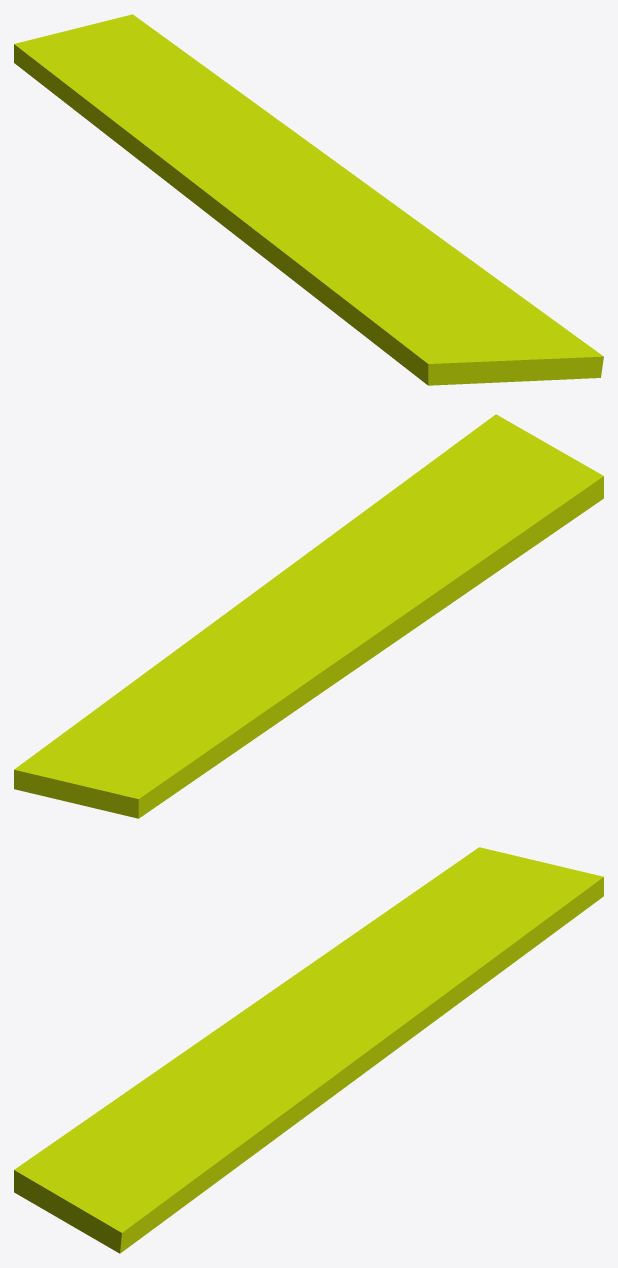
Rendered from Inlane_B.fbx.
3 renders of one model, top to bottom at view 1: azimuth 30°, elevation 25°; view 2: azimuth 150°, elevation 25°; view 3: azimuth 330°, elevation 25°, orthographic. The views are drawn at different scales.
Visible parts, largest first — view 1: Inlane_B; view 2: Inlane_B; view 3: Inlane_B.
Boxes of the visible parts, bbox=[...] form: Inlane_B: bbox=[14, 14, 603, 385]; Inlane_B: bbox=[14, 414, 603, 818]; Inlane_B: bbox=[14, 847, 603, 1253].
Size of the model in its own units: 1.74 by 0.2573 by 10.07.
